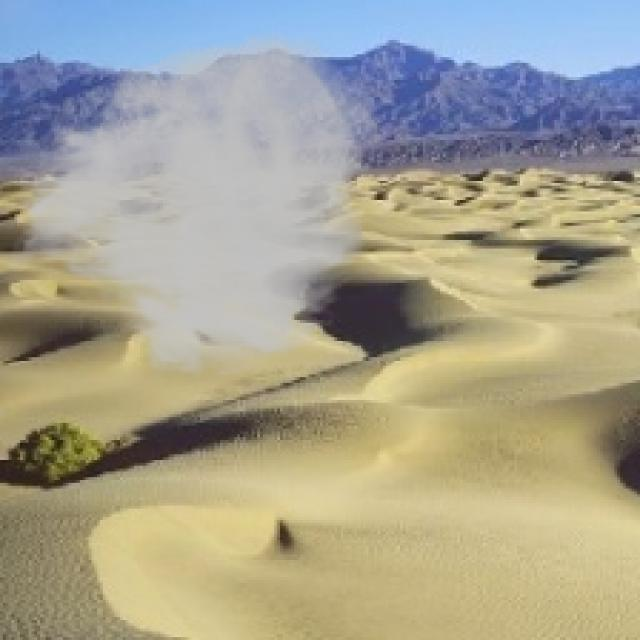Smoke: (0, 28, 386, 380)
